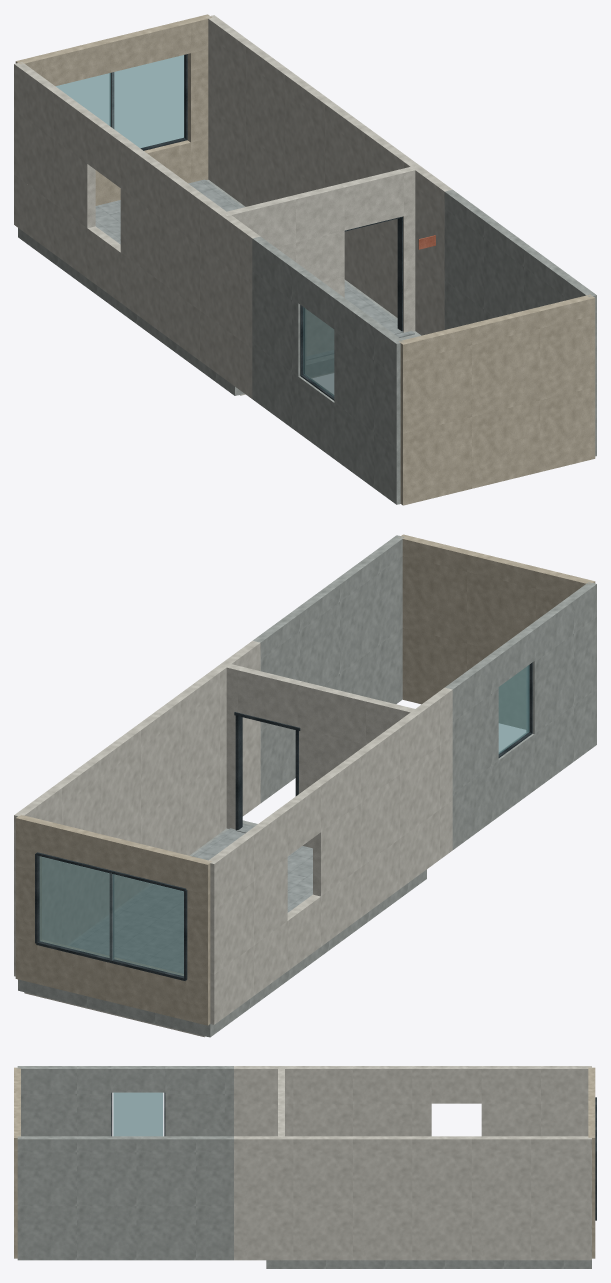
File: Apartment_Upper_Storey.glb
The picture shows the model from 3 angles, top to bottom: view 1: azimuth 30°, elevation 25°; view 2: azimuth 150°, elevation 25°; view 3: azimuth 270°, elevation 25°; orthographic projection. The views are drawn at different scales.
Parts seen in each view (by area): view 1: VIS_Rear_Shaft_Wall_wall_0_0_0044, VIS_Apartment_Wall_R_wall_0_0_0025, VIS_Stair_Shaft_R_wall_0_0_0043, VIS_Apartment_Wall_L_wall_2_1_0023, VIS_Apartment_Wall_L_wall_2_2_0024, VIS_Main_Window_pane_0016, VIS_Apartment_Wall_L_wall_2_0_0022, VIS_Apartment_Wall_L_wall_0_1_0018, VIS_Front_Facade_wall_1_2_0007, VIS_Stair_Shaft_L_wall_2_1_0041, VIS_Unit_Entrance_Wall_wall_0_1_0027, VIS_Apartment_Wall_L_wall_0_2_0019 (+21 smaller); view 2: VIS_Apartment_Wall_R_wall_0_0_0025, VIS_Rear_Shaft_Wall_wall_0_0_0044, VIS_Stair_Shaft_R_wall_0_0_0043, VIS_Main_Window_pane_0016, VIS_Apartment_Wall_L_wall_2_1_0023, VIS_Upper_Floor_Finish_0002, VIS_Apartment_Wall_L_wall_2_2_0024, VIS_Apartment_Wall_L_wall_2_0_0022, VIS_Front_Facade_wall_1_0_0006, VIS_Front_Facade_wall_1_2_0007, VIS_Apartment_Wall_L_wall_0_1_0018, VIS_Stair_Shaft_L_wall_2_1_0041 (+25 smaller); view 3: VIS_Apartment_Wall_R_wall_0_0_0025, VIS_Stair_Shaft_R_wall_0_0_0043, VIS_Apartment_Wall_L_wall_2_2_0024, VIS_Apartment_Wall_L_wall_2_1_0023, VIS_Apartment_Wall_L_wall_0_2_0019, VIS_Stair_Shaft_L_wall_2_1_0041, VIS_Apartment_Wall_L_wall_0_1_0018, VIS_Stair_Shaft_L_wall_0_1_0036, VIS_Front_Floor_Slab_0000, VIS_Stair_Shaft_L_wall_2_2_0042, VIS_Shaft_Window_L_pane_0049, VIS_Apartment_Wall_L_wall_1_2_0021 (+5 smaller).
Boxes of the visible parts, box(x1,y1,x2,y2) form: VIS_Rear_Shaft_Wall_wall_0_0_0044: box(399, 294, 595, 505); VIS_Apartment_Wall_R_wall_0_0_0025: box(206, 15, 452, 335); VIS_Stair_Shaft_R_wall_0_0_0043: box(444, 189, 596, 456); VIS_Apartment_Wall_L_wall_2_1_0023: box(120, 188, 252, 348); VIS_Apartment_Wall_L_wall_2_2_0024: box(120, 140, 260, 284); VIS_Main_Window_pane_0016: box(56, 55, 184, 148); VIS_Apartment_Wall_L_wall_2_0_0022: box(120, 253, 252, 398); VIS_Apartment_Wall_L_wall_0_1_0018: box(14, 110, 95, 228); VIS_Front_Facade_wall_1_2_0007: box(38, 19, 190, 86); VIS_Stair_Shaft_L_wall_2_1_0041: box(334, 330, 400, 448); VIS_Unit_Entrance_Wall_wall_0_1_0027: box(224, 184, 344, 247); VIS_Apartment_Wall_L_wall_0_2_0019: box(14, 62, 95, 163); VIS_Apartment_Wall_R_wall_0_0_0025: box(14, 640, 260, 976); VIS_Rear_Shaft_Wall_wall_0_0_0044: box(398, 534, 595, 729); VIS_Stair_Shaft_R_wall_0_0_0043: box(253, 535, 404, 802); VIS_Main_Window_pane_0016: box(39, 856, 183, 976); VIS_Apartment_Wall_L_wall_2_1_0023: box(313, 736, 452, 896); VIS_Upper_Floor_Finish_0002: box(70, 823, 312, 973); VIS_Apartment_Wall_L_wall_2_2_0024: box(313, 687, 452, 831); VIS_Apartment_Wall_L_wall_2_0_0022: box(321, 800, 452, 946); VIS_Front_Facade_wall_1_0_0006: box(37, 940, 186, 1020); VIS_Front_Facade_wall_1_2_0007: box(37, 820, 190, 888); VIS_Apartment_Wall_L_wall_0_1_0018: box(210, 857, 287, 974); VIS_Stair_Shaft_L_wall_2_1_0041: box(526, 615, 596, 733); VIS_Apartment_Wall_R_wall_0_0_0025: box(234, 1136, 591, 1260); VIS_Stair_Shaft_R_wall_0_0_0043: box(17, 1136, 233, 1260); VIS_Apartment_Wall_L_wall_2_2_0024: box(234, 1066, 431, 1103); VIS_Apartment_Wall_L_wall_2_1_0023: box(234, 1103, 431, 1136); VIS_Apartment_Wall_L_wall_0_2_0019: box(481, 1066, 591, 1103); VIS_Stair_Shaft_L_wall_2_1_0041: box(21, 1092, 111, 1136); VIS_Apartment_Wall_L_wall_0_1_0018: box(481, 1103, 588, 1136); VIS_Stair_Shaft_L_wall_0_1_0036: box(165, 1092, 233, 1136); VIS_Front_Floor_Slab_0000: box(266, 1260, 591, 1268); VIS_Stair_Shaft_L_wall_2_2_0042: box(17, 1066, 111, 1092); VIS_Shaft_Window_L_pane_0049: box(113, 1092, 163, 1136); VIS_Apartment_Wall_L_wall_1_2_0021: box(431, 1066, 481, 1103).
Bounding box in the file's own units: 4.17 × 3.5 × 14.01.
8 materials, 8 textured.
